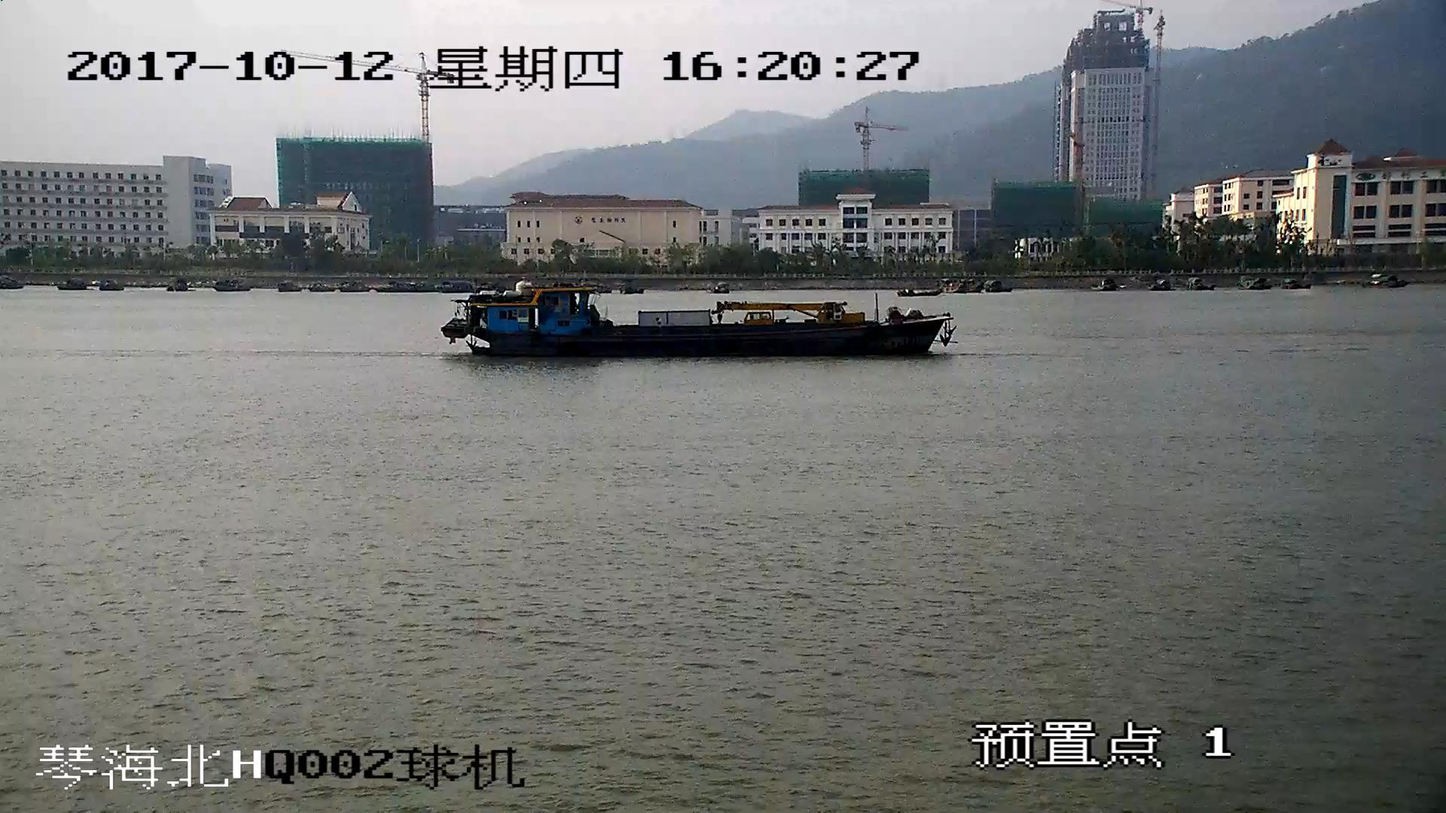fishing boat: (443, 282, 953, 357)
